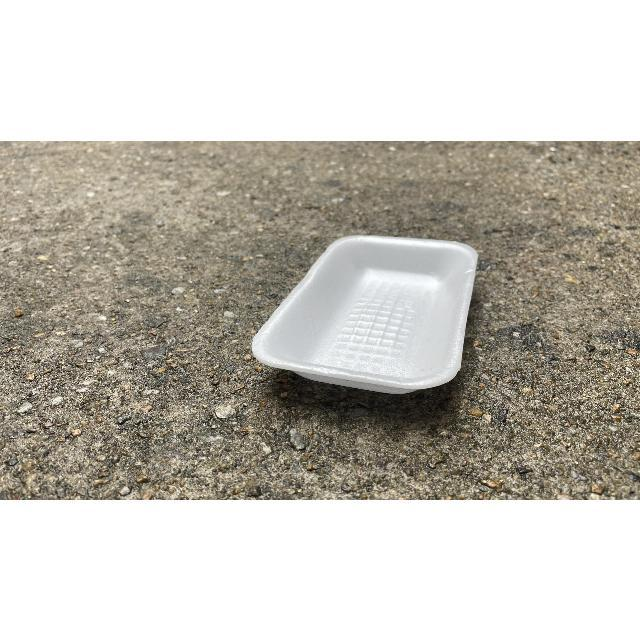Plastico descartable: (250, 236, 479, 396)
